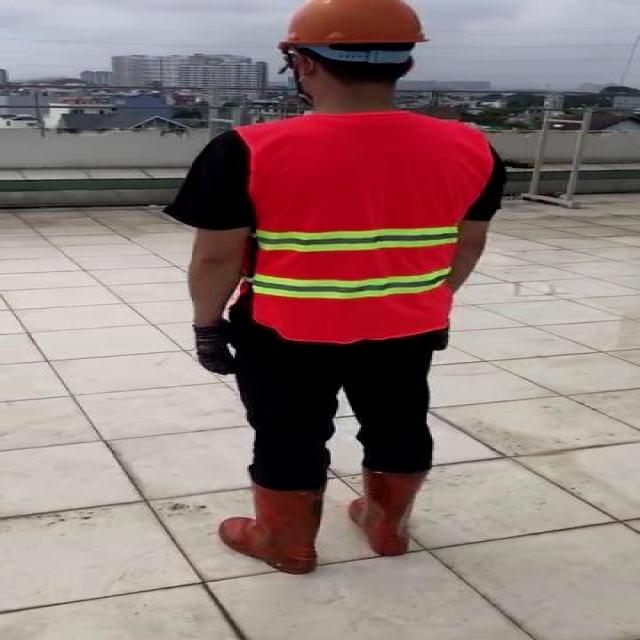boots: (219, 484, 325, 577), (346, 464, 434, 559)
hand_glove: (194, 323, 231, 376)
head_helmet: (268, 0, 430, 49)
person: (153, 0, 524, 591)
vest: (236, 114, 496, 343)
